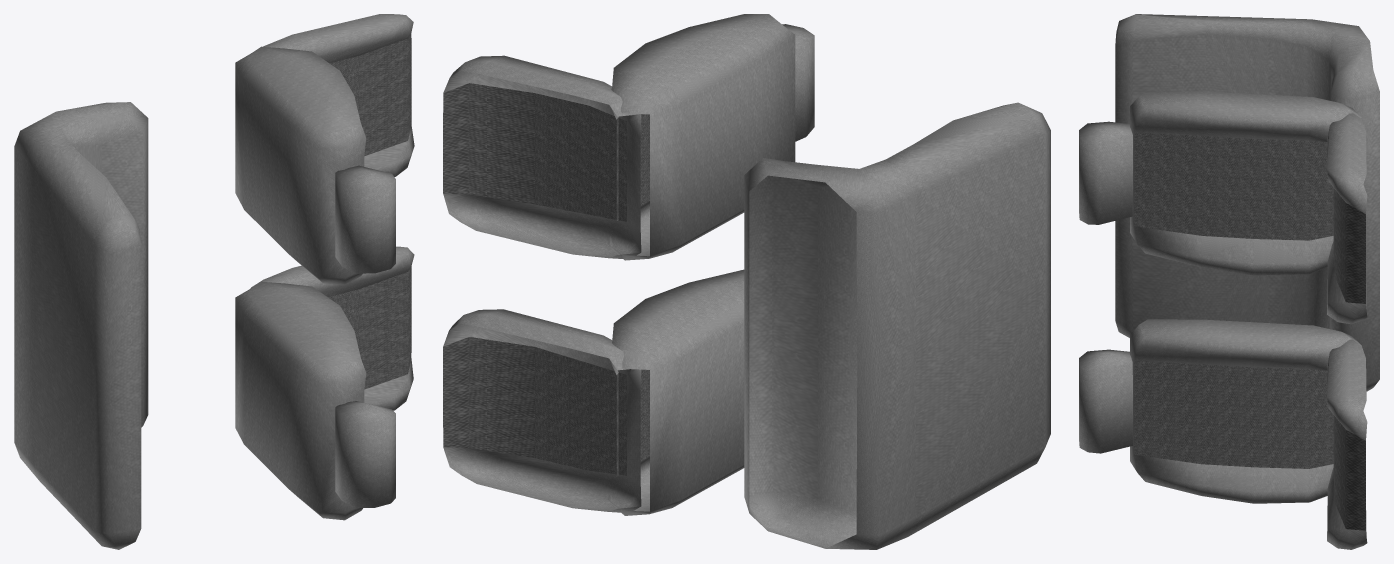
File: seats.obj
3 views of the same model, side by side, from view 1: azimuth 30°, elevation 25°; view 2: azimuth 150°, elevation 25°; view 3: azimuth 270°, elevation 25° (orthographic). The views are drawn at different scales.
Parts seen in each view (by area): view 1: 3_-_Default, 4_-_Default; view 2: 3_-_Default, 4_-_Default; view 3: 3_-_Default, 4_-_Default.
Boxes of the visible parts, left/top/right/bottom form: 3_-_Default: left=14, top=14, right=414, bottom=549; 4_-_Default: left=328, top=33, right=411, bottom=389; 3_-_Default: left=443, top=14, right=1050, bottom=549; 4_-_Default: left=443, top=83, right=649, bottom=476; 3_-_Default: left=1079, top=14, right=1379, bottom=549; 4_-_Default: left=1134, top=132, right=1365, bottom=530.
Size of the model in its own units: 1.57 by 1.37 by 0.9652.
2 materials, 2 textured.
